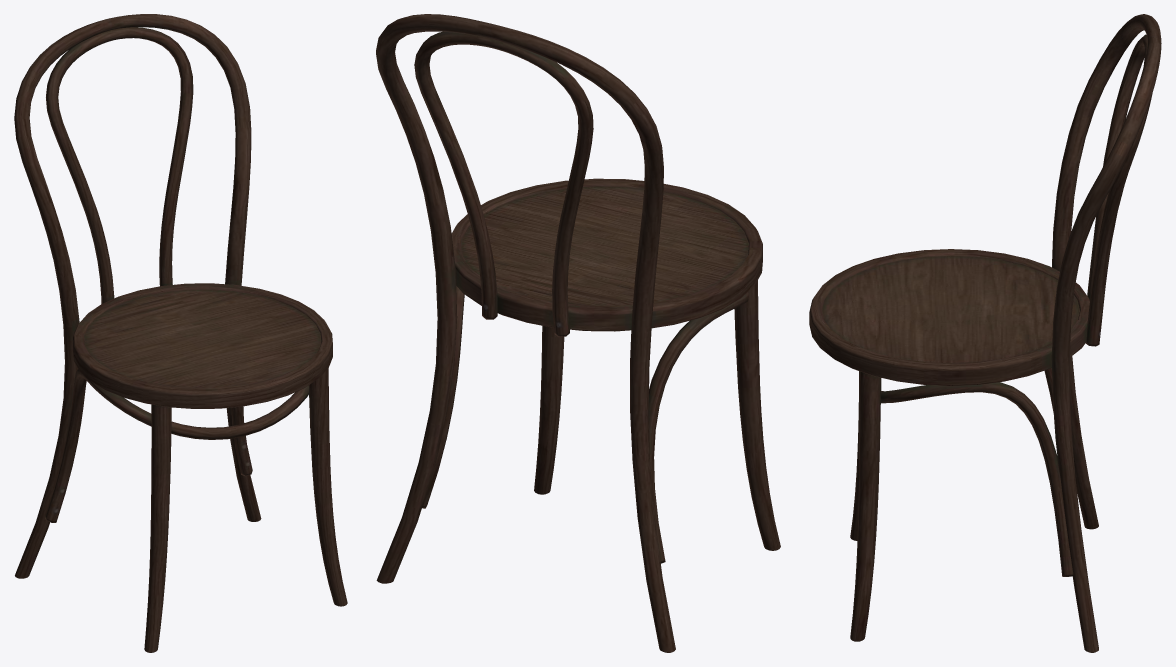
The model's file is bentwood_chair.glb.
The picture shows the model from 3 angles, left to right: view 1: azimuth 30°, elevation 25°; view 2: azimuth 150°, elevation 25°; view 3: azimuth 270°, elevation 25°; orthographic projection. The views are drawn at different scales.
Visible parts, largest first — view 1: chair_viennese_chair_viennese_0; view 2: chair_viennese_chair_viennese_0; view 3: chair_viennese_chair_viennese_0.
Part boxes in pixels (x1,y1,x2,y2): chair_viennese_chair_viennese_0: (14, 14, 347, 652); chair_viennese_chair_viennese_0: (376, 14, 780, 652); chair_viennese_chair_viennese_0: (809, 14, 1161, 652).
Bounding box in the file's own units: 0.4512 × 0.895 × 0.5171.
1 material, 1 textured.
